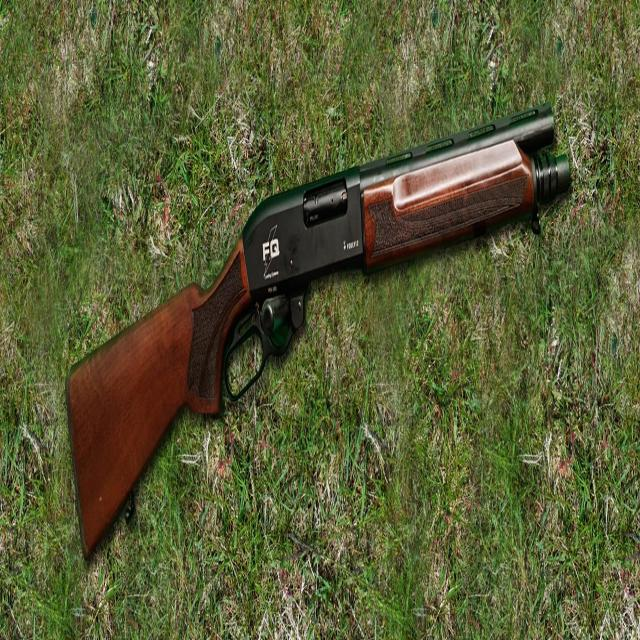weapon: (53, 97, 579, 575)
